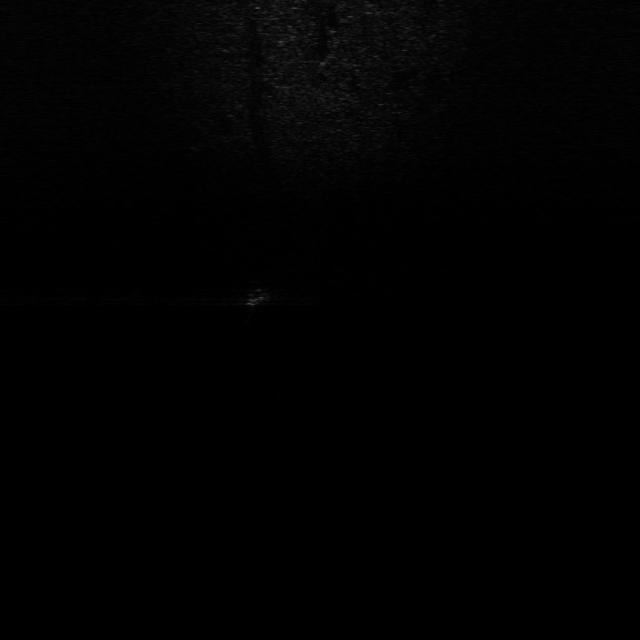human body: (241, 276, 277, 324)
